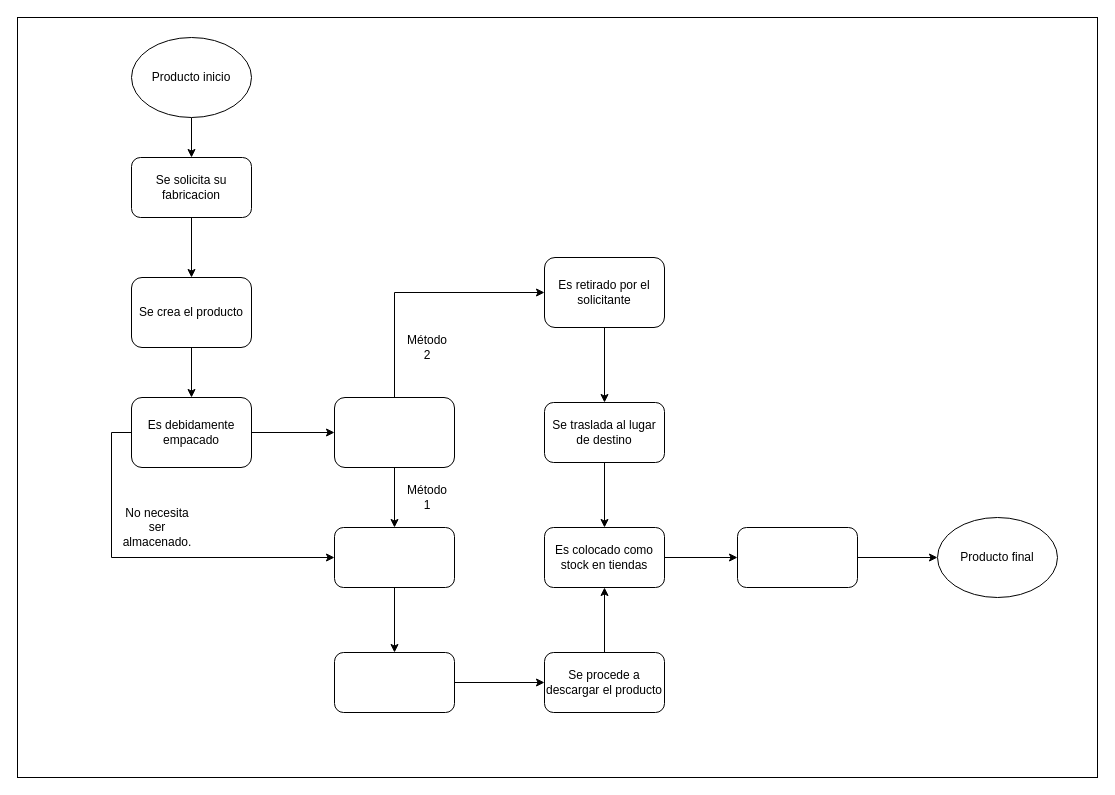
Image size: 1115x795. Some labels were removed from this diagram. Here are the shapes that lost their labels. From the top down, the box of each, then its label:
(334, 396, 454, 468): Se almacena en las bodegas
(334, 526, 454, 588): Se procede a cargar el producto al método de transporte
(736, 526, 858, 588): Es comprado por el consumidor.
(334, 652, 454, 712): Es trasladado a la sucursal de destino
